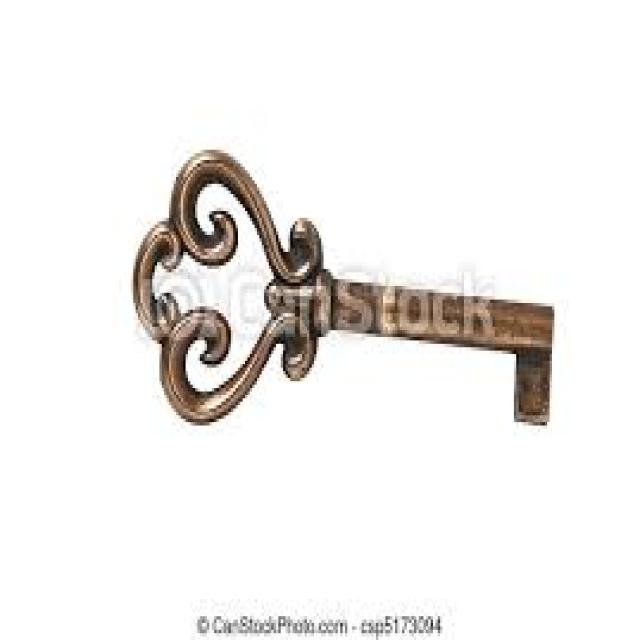key: (98, 108, 579, 497)
